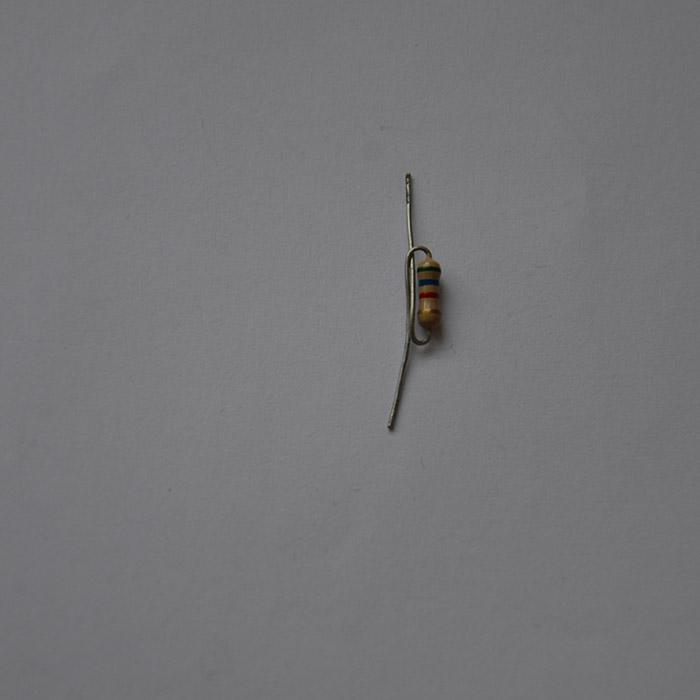resistor: (416, 253, 442, 326)
